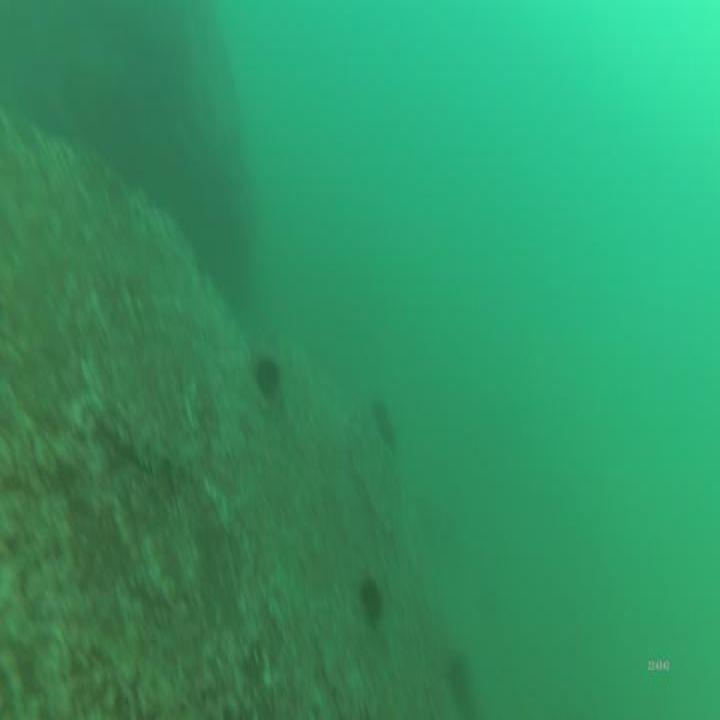echinus: (366, 390, 400, 463), (445, 650, 479, 720), (358, 567, 388, 638), (252, 347, 283, 407)
